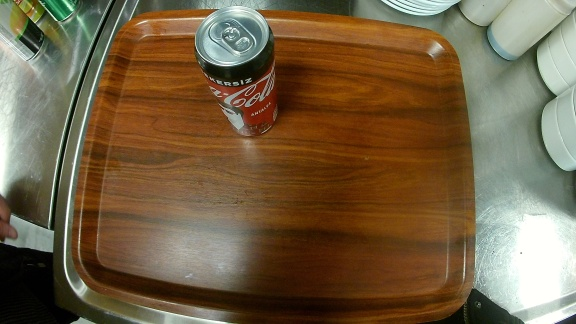kutukola: (191, 3, 288, 146)
